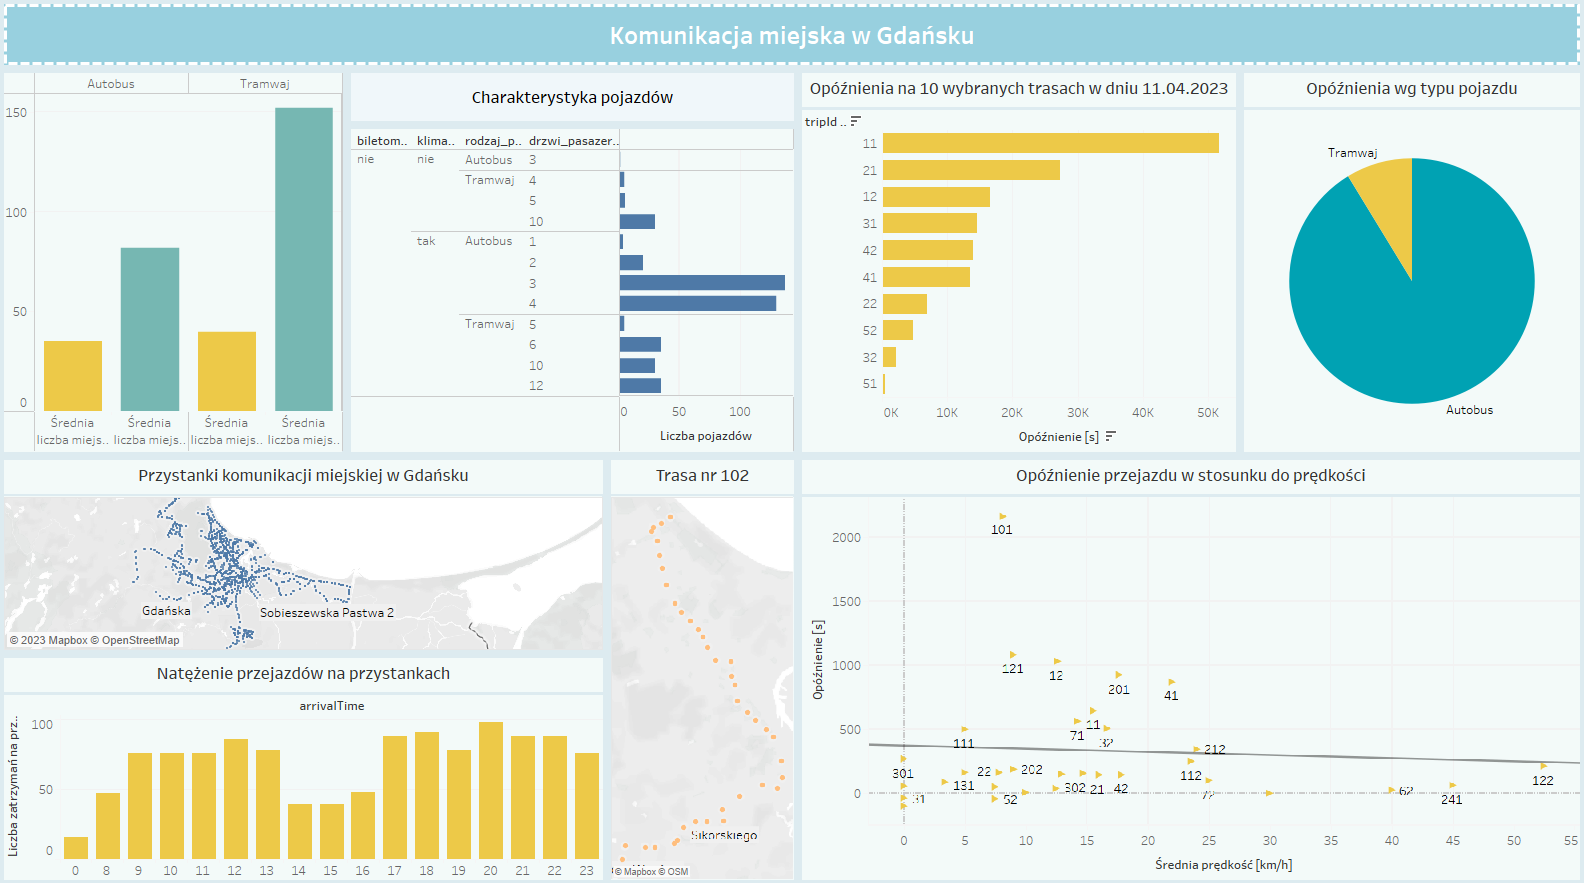

Layout of this report page (visuals, bound fields, positions):
{"tool":"tableau","page":{"name":"Dashboard","canvas":[1600,900],"ordinal":0},"visuals":[{"type":"title","box":[8,8,1584,69]},{"type":"worksheet","title":"Średnia liczba miejsc wg pojazdu","mark":"Automatic","cols":["rodzaj_pojazdu"],"box":[8,77,347,386.8]},{"type":"text","box":[355,77,451,56]},{"type":"worksheet","title":"Opóźnienia na 10 wybranych trasach w dniu 11.04.2023","mark":"Bar","rows":["tripId (Opóźnienia)"],"cols":["delayInSeconds"],"box":[806,77,442,387.1]},{"type":"worksheet","title":"Opóźnienia wg typu pojazdu","mark":"Pie","box":[1248,77,344,387.1]},{"type":"worksheet","title":"Charakterystyka dostępnych pojazdów","mark":"Automatic","rows":["biletomat","klimatyzacja","rodzaj_pojazdu","drzwi_pasazerskie"],"cols":["nr_inwentarzowy"],"box":[355,133,451,330.8]},{"type":"worksheet","title":"Przystanki komunikacji miejskiej w Gdańsku","mark":"Automatic","rows":["stopLat"],"cols":["stopLon"],"box":[8,463.8,607,197.8]},{"type":"worksheet","title":"Trasa nr 102","mark":"Automatic","rows":["stopLat"],"cols":["stopLon"],"box":[615,463.8,191,428.2]},{"type":"worksheet","title":"Opóźnienie przejazdu w stosunku do prędkości","mark":"Automatic","rows":["delay"],"cols":["speed"],"box":[806,464.1,786,427.9]},{"type":"worksheet","title":"Natężenie przejazdów na przystankach","mark":"Bar","rows":["stopName"],"cols":["arrivalTime"],"box":[8,661.6,607,230.4]}]}

Visuals, with their boxes in screenshot pixels (x1, y1, x2, y2), scaled from the page's 1600x900 canvas onto the 1585x883 screenshot:
title: <region>8, 8, 1577, 76</region>
"Średnia liczba miejsc wg pojazdu" worksheet: <region>8, 76, 352, 455</region>
text: <region>352, 76, 798, 130</region>
"Opóźnienia na 10 wybranych trasach w dniu 11.04.2023" worksheet (Bar marks): <region>798, 76, 1236, 455</region>
"Opóźnienia wg typu pojazdu" worksheet (Pie marks): <region>1236, 76, 1577, 455</region>
"Charakterystyka dostępnych pojazdów" worksheet: <region>352, 130, 798, 455</region>
"Przystanki komunikacji miejskiej w Gdańsku" worksheet: <region>8, 455, 609, 649</region>
"Trasa nr 102" worksheet: <region>609, 455, 798, 875</region>
"Opóźnienie przejazdu w stosunku do prędkości" worksheet: <region>798, 455, 1577, 875</region>
"Natężenie przejazdów na przystankach" worksheet (Bar marks): <region>8, 649, 609, 875</region>
